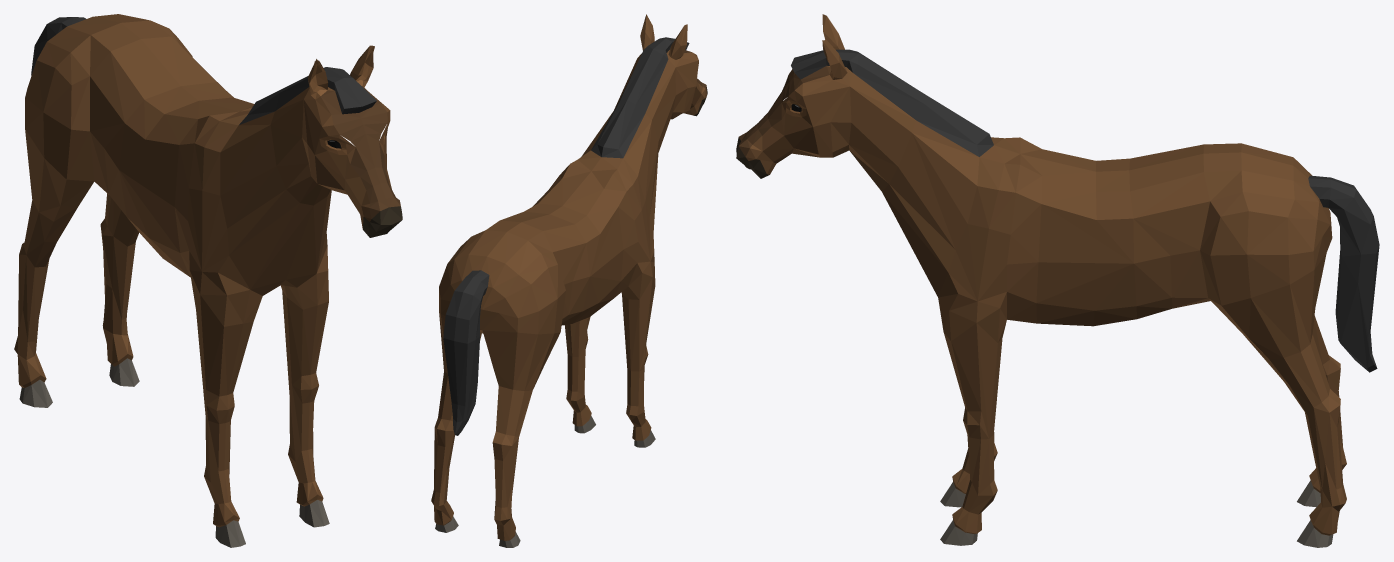
Rendered from horse.glb.
3 renders of one model, left to right at view 1: azimuth 30°, elevation 25°; view 2: azimuth 150°, elevation 25°; view 3: azimuth 270°, elevation 25°, orthographic. The views are drawn at different scales.
Visible parts, largest first — view 1: Horse_baked; view 2: Horse_baked; view 3: Horse_baked.
Part boxes in pixels (x1,y1,x2,y2): Horse_baked: (14, 14, 402, 547); Horse_baked: (431, 14, 707, 547); Horse_baked: (736, 14, 1379, 547).
Bounding box in the file's own units: 1.41 × 4.82 × 5.68.
Materials: 1 (1 with a texture image).
